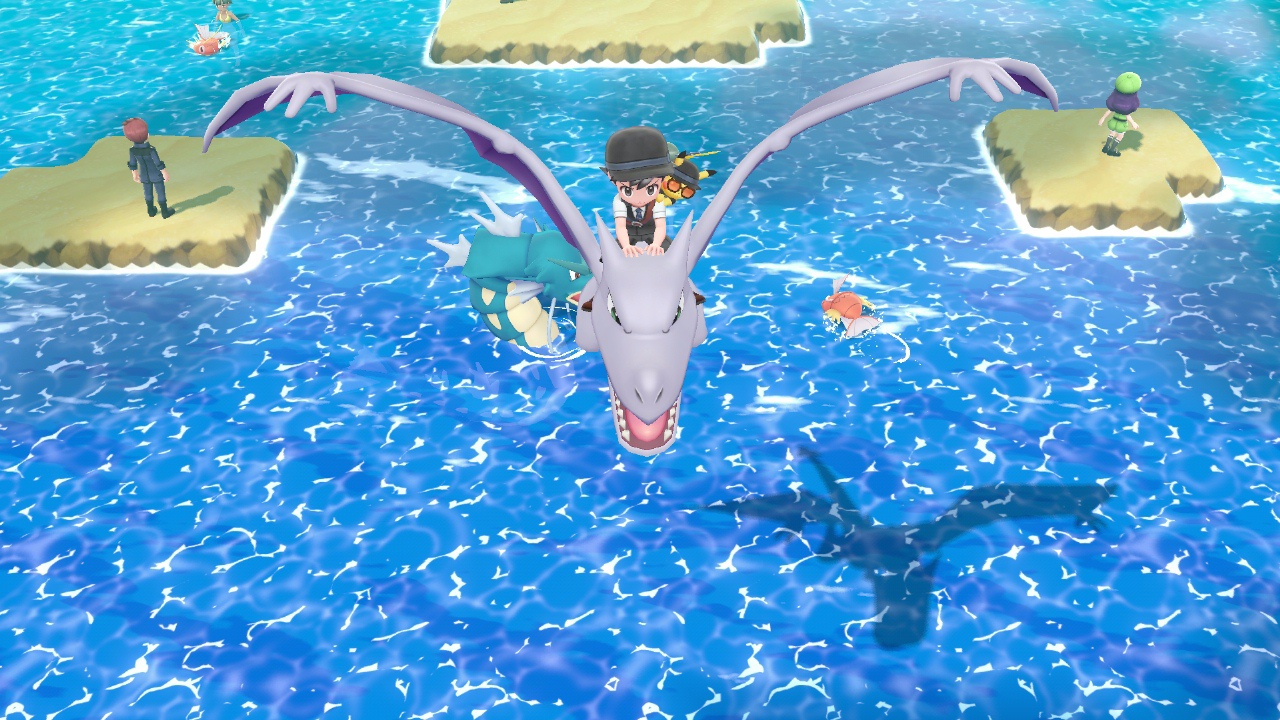Red: (824, 273, 878, 341), (188, 21, 233, 58)
